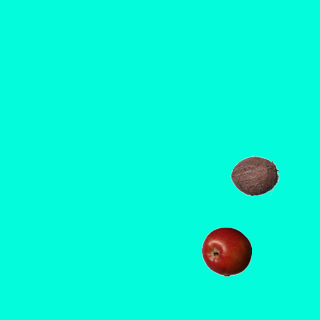Apple Braeburn: (201, 226, 251, 276)
Cocos: (229, 150, 279, 200)
